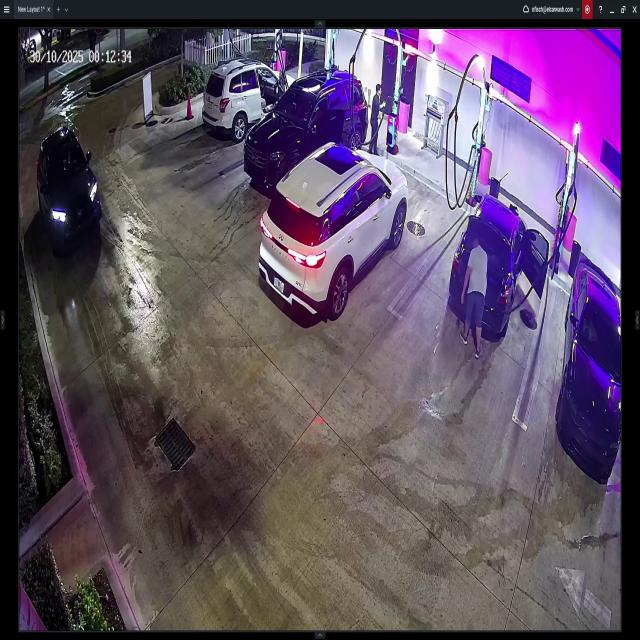Car: (260, 142, 407, 326), (447, 184, 549, 345), (553, 256, 623, 473), (246, 69, 367, 183), (34, 128, 101, 250), (200, 62, 298, 137)
